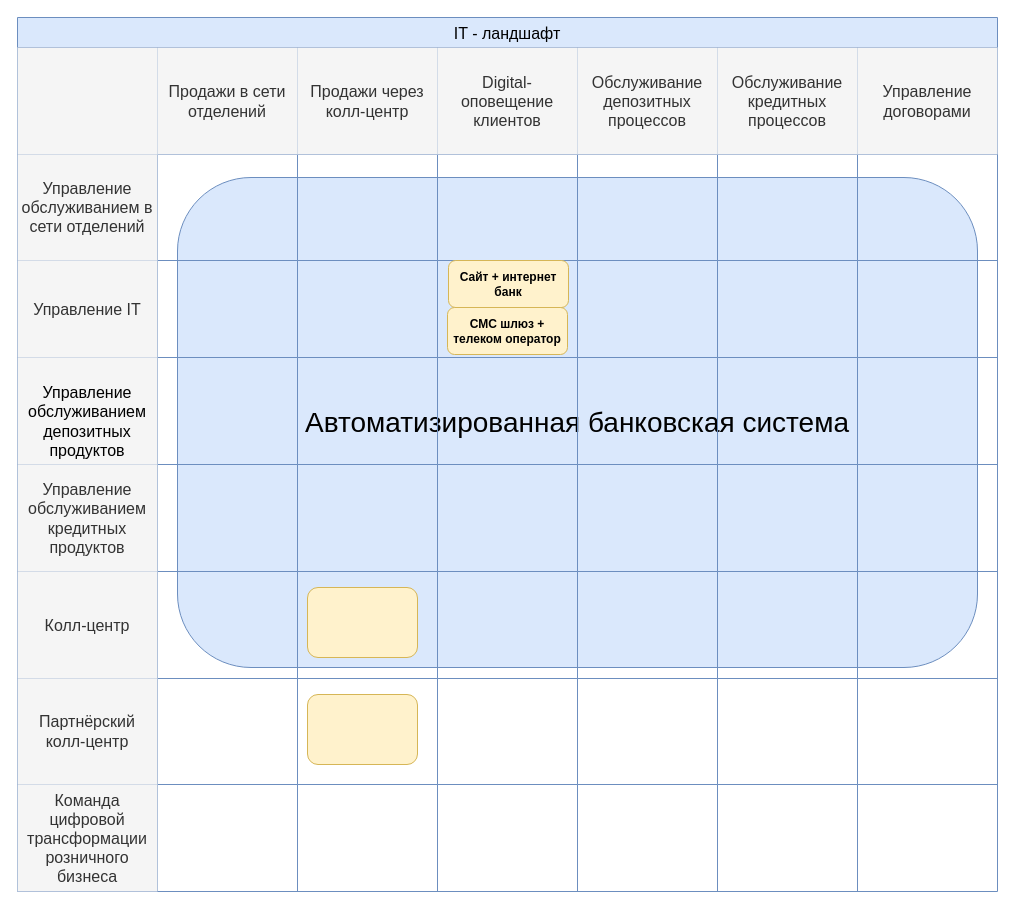
Some shapes in this 1015 by 909 pixel diagram are drawn without their labels. The shapes that lost their labels are listed below. From the top down, each one's centre as x and y in pixels, then its label:
At point (362, 622): "Система кол-центра".
At point (362, 729): "Система партнерского кол-центра".
